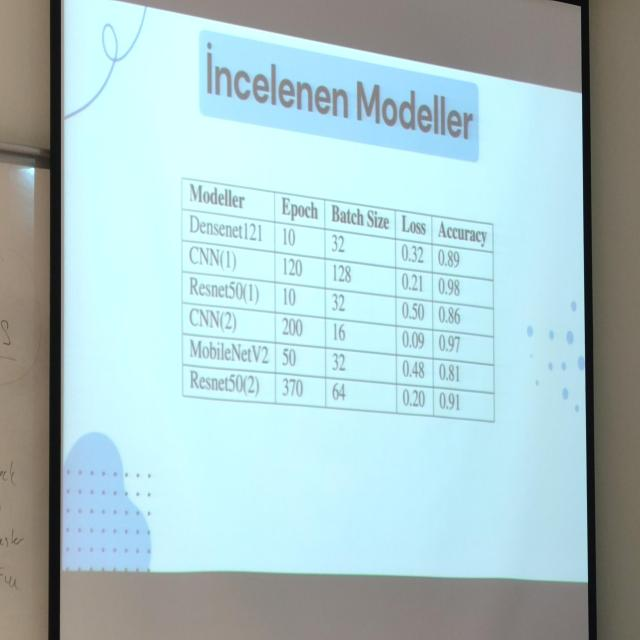image: (180, 170, 496, 429)
text: (199, 29, 480, 161)
